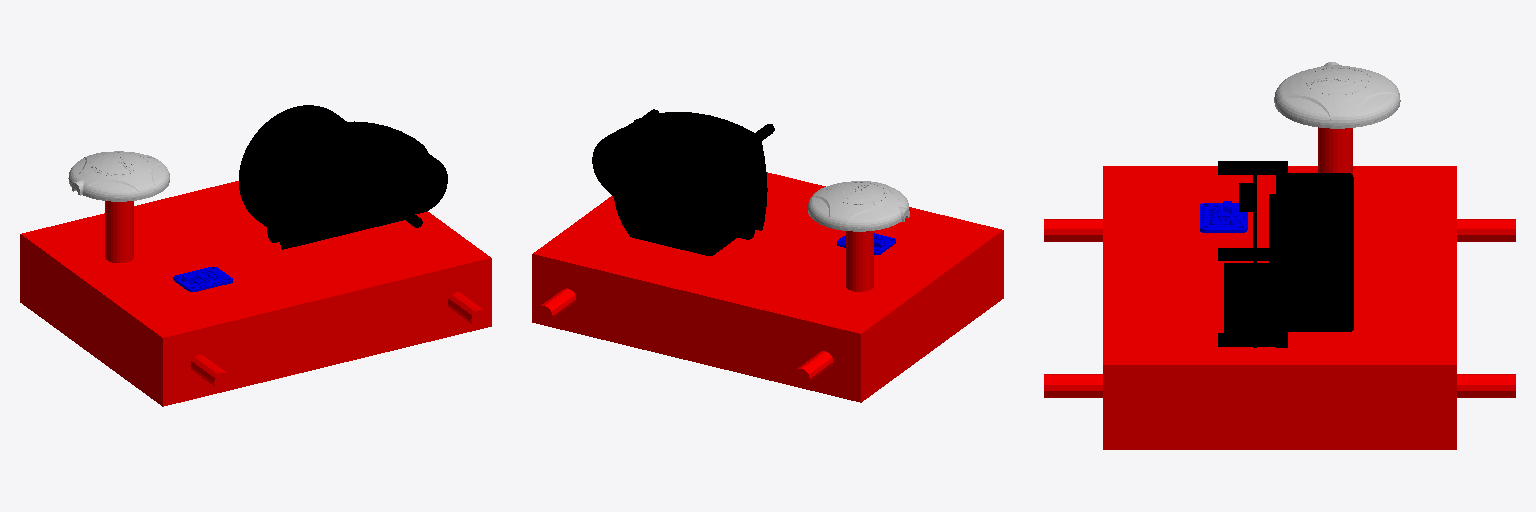
URDF robot description (inferno_simulation):
<?xml version="1.0" encoding="utf-8"?>
<!-- This URDF was automatically created by SolidWorks to URDF Exporter! Originally created by [author] ([email redacted]) 
     Commit Version: 1.5.1-0-g916b5db  Build Version: 1.5.7152.31018
     For more information, please see http://wiki.ros.org/sw_urdf_exporter -->
<robot
  name="inferno_simulation">
  <link
    name="base_link">
    <inertial>
      <origin
        xyz="-0.245905009125424 -0.03206623754361 0.150956862661978"
        rpy="0 0 0" />
      <mass
        value="1" />
      <inertia
        ixx="1"
        ixy="2.86114363402595E-20"
        ixz="-2.47492439275866E-20"
        iyy="1"
        iyz="2.31292934159627E-20"
        izz="1" />
    </inertial>
    <visual>
      <origin
        xyz="0 0 0"
        rpy="0 0 0" />
      <geometry>
        <mesh
          filename="package://inferno_simulation/meshes/base_link.STL" />
      </geometry>
      <material
        name="">
        <color
          rgba="255 0 0 255" />
      </material>
    </visual>
    <collision>
      <origin
        xyz="0 0 0"
        rpy="0 0 0" />
      <geometry>
        <mesh
          filename="package://inferno_simulation/meshes/base_link.STL" />
      </geometry>
    </collision>
  </link>
  <gazebo reference="base_link">
    <material>Gazebo/Red</material>
  </gazebo>
  <link
    name="RF_wheel">
    <inertial>
      <origin
        xyz="0 0 0.01"
        rpy="0 0 0" />
      <mass
        value="0.073114" />
      <inertia
        ixx="2.4579E-05"
        ixy="4.2352E-22"
        ixz="9.5316E-22"
        iyy="2.4579E-05"
        iyz="1.6908E-22"
        izz="4.4495E-05" />
    </inertial>
    <visual>
      <origin
        xyz="0 0 0"
        rpy="0 0 0" />
      <geometry>
        <mesh
          filename="package://inferno_simulation/meshes/RF_wheel.STL" />
      </geometry>
      <material
        name="">
        <color
          rgba="0 0 0 1" />
      </material>
    </visual>
    <collision>
      <origin
        xyz="0 0 0"
        rpy="0 0 0" />
      <geometry>
        <mesh
          filename="package://inferno_simulation/meshes/RF_wheel.STL" />
      </geometry>
    </collision>
  </link>
  <joint
    name="RF_wheel_joint"
    type="continuous">
    <origin
      xyz="-0.16645 -0.22837 -0.032762"
      rpy="1.5708 0.28207 0" />
    <parent
      link="base_link" />
    <child
      link="RF_wheel" />
    <axis
      xyz="0 0 1" />
  </joint>
  <link
    name="RB_wheel">
    <inertial>
      <origin
        xyz="-5.5511E-17 -6.9389E-18 0.01"
        rpy="0 0 0" />
      <mass
        value="0.073114" />
      <inertia
        ixx="2.4579E-05"
        ixy="-1.4998E-40"
        ixz="-8.8233E-24"
        iyy="2.4579E-05"
        iyz="-3.3694E-38"
        izz="4.4495E-05" />
    </inertial>
    <visual>
      <origin
        xyz="0 0 0"
        rpy="0 0 0" />
      <geometry>
        <mesh
          filename="package://inferno_simulation/meshes/RB_wheel.STL" />
      </geometry>
      <material
        name="">
        <color
          rgba="0 0 0 1" />
      </material>
    </visual>
    <collision>
      <origin
        xyz="0 0 0"
        rpy="0 0 0" />
      <geometry>
        <mesh
          filename="package://inferno_simulation/meshes/RB_wheel.STL" />
      </geometry>
    </collision>
  </link>
  <joint
    name="RB_wheel_joint"
    type="continuous">
    <origin
      xyz="-0.3229 -0.22837 -0.032762"
      rpy="1.5708 0 0" />
    <parent
      link="base_link" />
    <child
      link="RB_wheel" />
    <axis
      xyz="0 0 1" />
  </joint>
  <link
    name="LF_wheel">
    <inertial>
      <origin
        xyz="-3.4694E-18 5.5511E-17 0.01"
        rpy="0 0 0" />
      <mass
        value="0.073114" />
      <inertia
        ixx="2.4579E-05"
        ixy="-4.2352E-22"
        ixz="4.6884E-22"
        iyy="2.4579E-05"
        iyz="-1.0642E-24"
        izz="4.4495E-05" />
    </inertial>
    <visual>
      <origin
        xyz="0 0 0"
        rpy="0 0 0" />
      <geometry>
        <mesh
          filename="package://inferno_simulation/meshes/LF_wheel.STL" />
      </geometry>
      <material
        name="">
        <color
          rgba="0 0 0 1" />
      </material>
    </visual>
    <collision>
      <origin
        xyz="0 0 0"
        rpy="0 0 0" />
      <geometry>
        <mesh
          filename="package://inferno_simulation/meshes/LF_wheel.STL" />
      </geometry>
    </collision>
  </link>
  <joint
    name="LF_wheel_joint"
    type="continuous">
    <origin
      xyz="-0.16645 -0.054371 -0.032762"
      rpy="1.5708 1.5064 0" />
    <parent
      link="base_link" />
    <child
      link="LF_wheel" />
    <axis
      xyz="0 0 1" />
  </joint>
  <link
    name="LB_wheel">
    <inertial>
      <origin
        xyz="5.5511E-17 0 0.01"
        rpy="0 0 0" />
      <mass
        value="0.073114" />
      <inertia
        ixx="2.4579E-05"
        ixy="-1.4998E-40"
        ixz="2.7352E-22"
        iyy="2.4579E-05"
        iyz="-3.3694E-38"
        izz="4.4495E-05" />
    </inertial>
    <visual>
      <origin
        xyz="0 0 0"
        rpy="0 0 0" />
      <geometry>
        <mesh
          filename="package://inferno_simulation/meshes/LB_wheel.STL" />
      </geometry>
      <material
        name="">
        <color
          rgba="0 0 0 1" />
      </material>
    </visual>
    <collision>
      <origin
        xyz="0 0 0"
        rpy="0 0 0" />
      <geometry>
        <mesh
          filename="package://inferno_simulation/meshes/LB_wheel.STL" />
      </geometry>
    </collision>
  </link>
  <joint
    name="LB_wheel_joint"
    type="continuous">
    <origin
      xyz="-0.3229 -0.058371 -0.032762"
      rpy="1.5708 0 0" />
    <parent
      link="base_link" />
    <child
      link="LB_wheel" />
    <axis
      xyz="0 0 1" />
  </joint>
  <link
    name="lidar">
    <inertial>
      <origin
        xyz="-0.0074835 0.010668 9.1926E-05"
        rpy="0 0 0" />
      <mass
        value="0.30369" />
      <inertia
        ixx="0.00014033"
        ixy="3.6112E-05"
        ixz="1.8302E-07"
        iyy="0.0002506"
        iyz="7.0553E-07"
        izz="0.00021924" />
    </inertial>
    <visual>
      <origin
        xyz="0 0 0"
        rpy="0 0 0" />
      <geometry>
        <mesh
          filename="package://inferno_simulation/meshes/lidar.STL" />
      </geometry>
      <material
        name="">
        <color
          rgba="0 0 0 1" />
      </material>
    </visual>
    <collision>
      <origin
        xyz="0 0 0"
        rpy="0 0 0" />
      <geometry>
        <mesh
          filename="package://inferno_simulation/meshes/lidar.STL" />
      </geometry>
    </collision>
  </link>
  <gazebo reference="lidar">
    <material>Gazebo/Black</material>
  </gazebo>
  <joint
    name="lidar_joint"
    type="fixed">
    <origin
      xyz="-0.18876 -0.15318 0.011436"
      rpy="0 0 0" />
    <parent
      link="base_link" />
    <child
      link="lidar" />
    <axis
      xyz="0 0 0" />
  </joint>
  <gazebo reference="LB_wheel">
    <material>Gazebo/Black</material>
  </gazebo>
  <gazebo reference="LF_wheel">
    <material>Gazebo/Black</material>
  </gazebo>
  <gazebo reference="RB_wheel">
    <material>Gazebo/Black</material>
  </gazebo>
  <gazebo reference="RF_wheel">
    <material>Gazebo/Black</material>
  </gazebo>
  <link
    name="imu">
    <inertial>
      <origin
        xyz="0.012893 0.0010632 -0.010265"
        rpy="0 0 0" />
      <mass
        value="0.00098313" />
      <inertia
        ixx="2.7278E-08"
        ixy="-1.8314E-11"
        ixz="-1.8646E-11"
        iyy="7.4856E-08"
        iyz="1.8158E-12"
        izz="4.8045E-08" />
    </inertial>
    <visual>
      <origin
        xyz="0 0 0"
        rpy="0 0 0" />
      <geometry>
        <mesh
          filename="package://inferno_simulation/meshes/imu.STL" />
      </geometry>
      <material
        name="">
        <color
          rgba="0 0 255 1" />
      </material>
    </visual>
    <collision>
      <origin
        xyz="0 0 0"
        rpy="0 0 0" />
      <geometry>
        <mesh
          filename="package://inferno_simulation/meshes/imu.STL" />
      </geometry>
    </collision>
  </link>
  <gazebo reference="imu">
    <material>Gazebo/Blue</material>
  </gazebo>
  <joint
    name="imu_joint"
    type="fixed">
    <origin
      xyz="-0.30404 -0.18549 -0.012738"
      rpy="1.5708 0 0" />
    <parent
      link="base_link" />
    <child
      link="imu" />
    <axis
      xyz="0 0 0" />
  </joint>
  <link
    name="gps">
    <inertial>
      <origin
        xyz="-8.076E-07 0.0059238 0.00034784"
        rpy="0 0 0" />
      <mass
        value="0.0081626" />
      <inertia
        ixx="1.5669E-06"
        ixy="2.8129E-11"
        ixz="-1.4436E-12"
        iyy="2.9513E-06"
        iyz="5.5635E-09"
        izz="1.4972E-06" />
    </inertial>
    <visual>
      <origin
        xyz="0 0 0"
        rpy="0 0 0" />
      <geometry>
        <mesh
          filename="package://inferno_simulation/meshes/gps.STL" />
      </geometry>
      <material
        name="">
        <color
          rgba="0.79216 0.79216 0.79216 1" />
      </material>
    </visual>
    <collision>
      <origin
        xyz="0 0 0"
        rpy="0 0 0" />
      <geometry>
        <mesh
          filename="package://inferno_simulation/meshes/gps.STL" />
      </geometry>
    </collision>
  </link>
  <gazebo reference="gps">
    <material>Gazebo/Green</material>
  </gazebo>
  <joint
    name="gps_joint"
    type="fixed">
    <origin
      xyz="-0.31379 -0.127 0.031598"
      rpy="1.5708 0 -1.4835" />
    <parent
      link="base_link" />
    <child
      link="gps" />
    <axis
      xyz="0 0 0" />
  </joint>
  <gazebo reference="lidar">
    <sensor type="ray" name="head_hokuyo_sensor">
      <pose> 0 0 0 0 0  </pose>
      <visualize>true</visualize>
      <update_rate>40</update_rate>
      <ray>
        <scan>
          <horizontal>
            <samples>720</samples>
            <resolution>1</resolution>
            <min_angle>-1.57</min_angle>
            <max_angle>1.57</max_angle>
          </horizontal>
        </scan>
        <range>
          <min>0.10</min>
          <max>30.0</max>
          <resolution>0.01</resolution>
        </range>
        <noise>
          <type>gaussian</type>
          <!-- Noise parameters based on published spec for Hokuyo laser
               achieving "+-30mm" accuracy at range < 10m.  A mean of 0.0m and
               stddev of 0.01m will put 99.7% of samples within 0.03m of the true
               reading. -->
          <mean>0.0</mean>
          <stddev>0.01</stddev>
        </noise>
      </ray>
      <plugin name="gazebo_ros_head_hokuyo_controller" filename="libgazebo_ros_laser.so">
        <topicName>scan</topicName>
	<robotNamespace>/</robotNamespace>
        <frameName>lidar</frameName>

      </plugin>
    </sensor>
  </gazebo>
  <gazebo>
  <plugin name="skid_steer_drive_controller" filename="libgazebo_ros_skid_steer_drive.so">
    <updateRate>100.0</updateRate>
    <leftFrontJoint>LF_wheel_joint</leftFrontJoint>
    <rightFrontJoint>RF_wheel_joint</rightFrontJoint>
    <leftRearJoint>LB_wheel_joint</leftRearJoint>
    <rightRearJoint>RB_wheel_joint</rightRearJoint>
    <wheelSeparation>0.4</wheelSeparation>
    <wheelDiameter>0.25</wheelDiameter>
    <torque>5</torque>
    <commandTopic>cmd_vel</commandTopic>
    <broadcastTF>true</broadcastTF>
    <odometryTopic>odom</odometryTopic>

    <!-- Odometry frame, defaults to `odom` -->
    <odometryFrame>odom</odometryFrame>

    <!-- Robot frame to calculate odometry from, defaults to `base_footprint` -->
    <robotBaseFrame>base_footprint</robotBaseFrame>

    <!-- Odometry source, 0 for ENCODER, 1 for WORLD, defaults to WORLD -->
    <odometrySource>0</odometrySource>

    <!-- Set to true to publish transforms for the wheel links, defaults to false -->
    <publishWheelTF>true</publishWheelTF>

    <!-- Set to true to publish transforms for the odometry, defaults to true -->
    <publishOdom>true</publishOdom>

    <!-- Set to true to publish sensor_msgs/JointState on /joint_states for the wheel joints, defaults to false -->
    <publishWheelJointState>true</publishWheelJointState>

  </plugin>
</gazebo>
</robot>

--- Facts derived from the render (not from the file) ---
3 views of the same robot in one strip: view 1: azimuth 30°, elevation 25°; view 2: azimuth 150°, elevation 25°; view 3: azimuth 270°, elevation 25° (orthographic).
Robot: inferno_simulation — 8 links, 7 joints (4 continuous, 3 fixed); root link base_link; default pose: every joint at zero.
Visible links, largest first — view 1: base_link, lidar, gps, imu; view 2: base_link, lidar, gps; view 3: base_link, lidar, gps, imu.
Link boxes in pixels (bbox=[...]): base_link: bbox=[20, 181, 491, 406]; lidar: bbox=[239, 105, 447, 249]; gps: bbox=[68, 151, 169, 201]; imu: bbox=[173, 266, 232, 291]; base_link: bbox=[532, 172, 1003, 402]; lidar: bbox=[592, 109, 774, 255]; gps: bbox=[808, 181, 909, 231]; base_link: bbox=[1044, 127, 1515, 449]; lidar: bbox=[1218, 161, 1353, 347]; gps: bbox=[1274, 62, 1400, 128]; imu: bbox=[1200, 201, 1247, 232].
Size in the robot's own frame: 0.2052 by 0.2 by 0.0992 metres.
Meshes: 8 distinct files referenced, 4 mesh visuals loaded (4 binary STL); not drawn: 4 (reference not matched to a file when rendering).